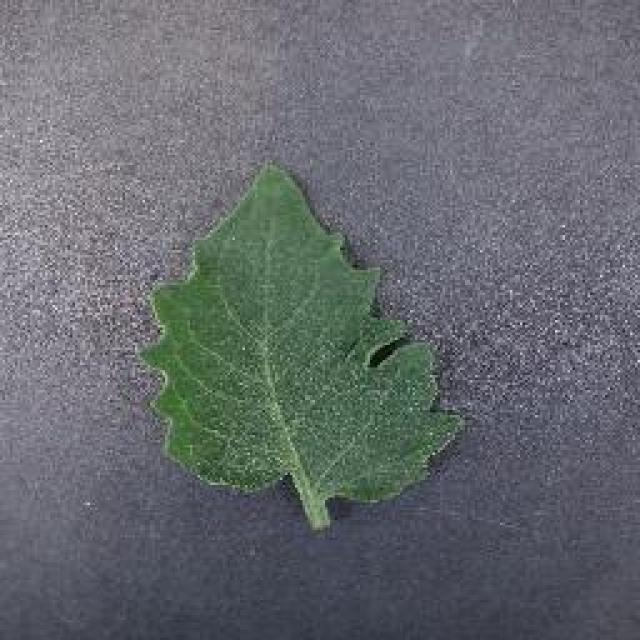Healthy: (122, 158, 470, 542)
